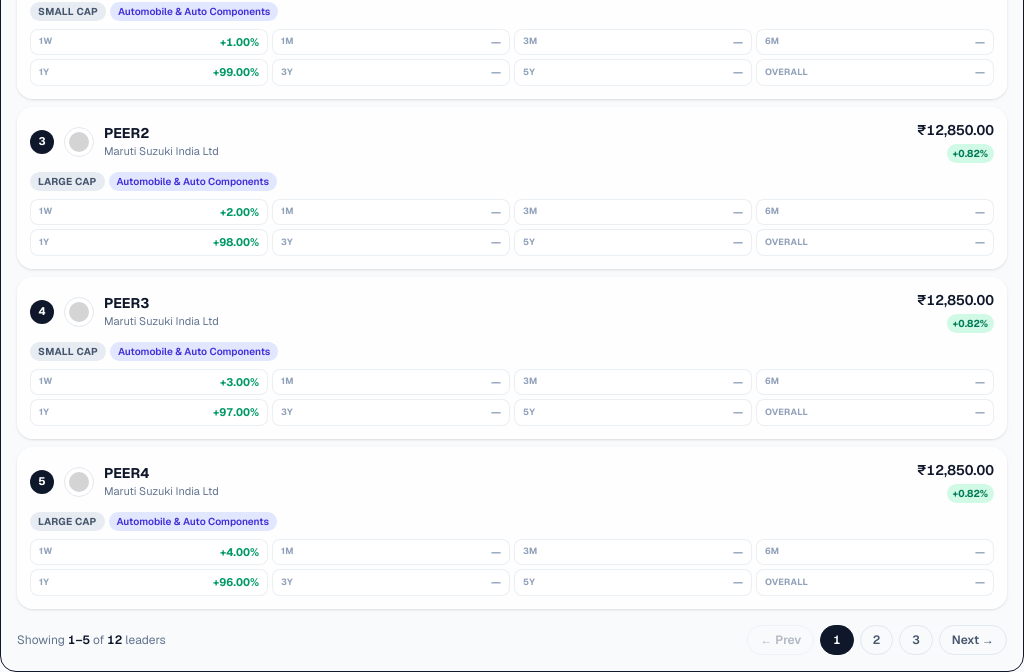
PeerBoard › pages five at a time, strongest first, with the ranks running on
(page scrolled)
Expected: the text "PEER5" is not shown
Expected: the text "Showing 1–5 of 12 leaders" is shown, [17,632,166,648]
Click the button "Next →". click: click(973, 640)
box: [939,624,1007,654]
(page scrolled)
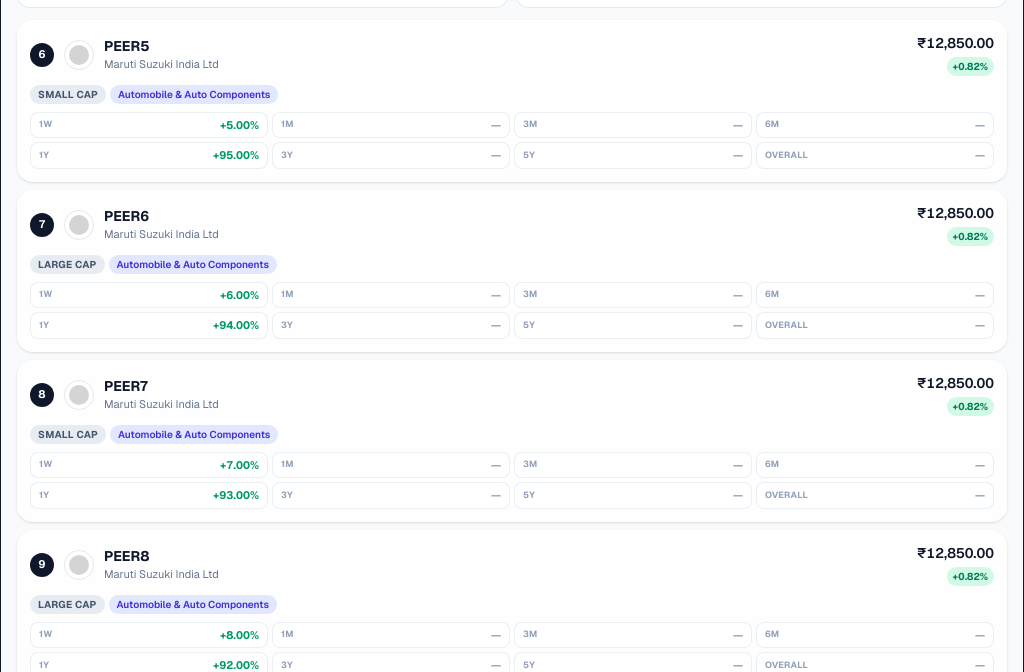
Expected: the text "6" is shown, [30,42,54,66]
Now the text "PEER5" is shown, box [104,37,150,55]
